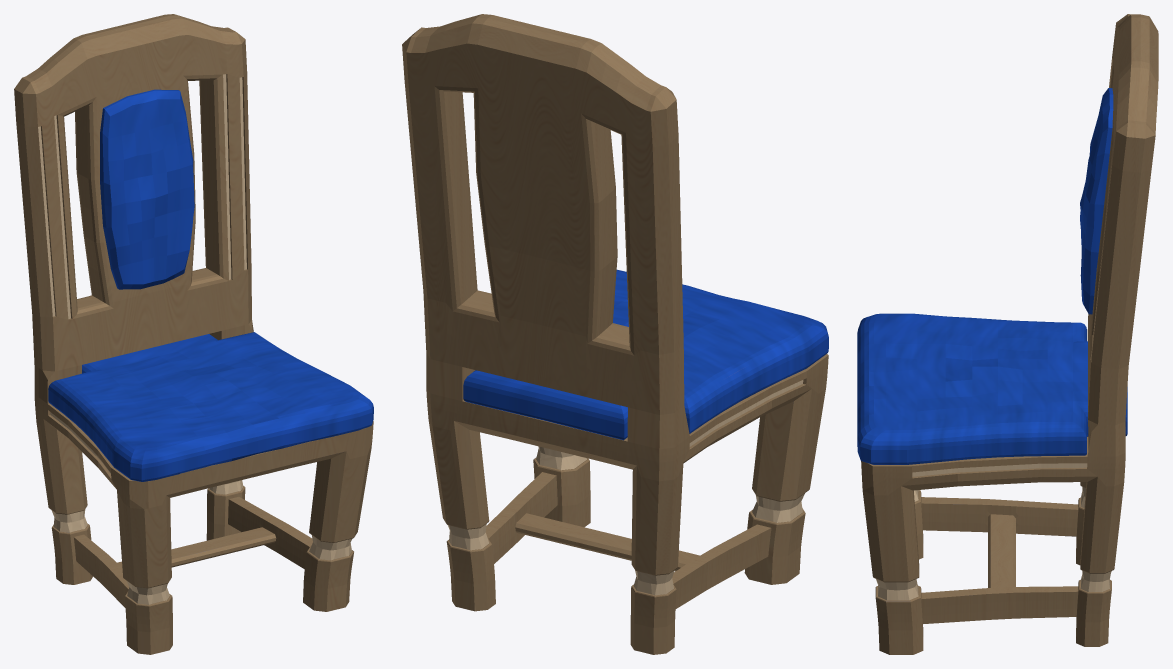
The model's file is Chair1.fbx.
3 views of the same model, side by side, from view 1: azimuth 30°, elevation 25°; view 2: azimuth 150°, elevation 25°; view 3: azimuth 270°, elevation 25° (orthographic). The views are drawn at different scales.
Parts seen in each view (by area): view 1: Chair.001; view 2: Chair.001; view 3: Chair.001.
Part boxes in pixels (x1,y1,x2,y2): Chair.001: (14,14,373,654); Chair.001: (402,14,828,654); Chair.001: (857,14,1158,654).
Size of the model in its own units: 234 by 472 by 230.
